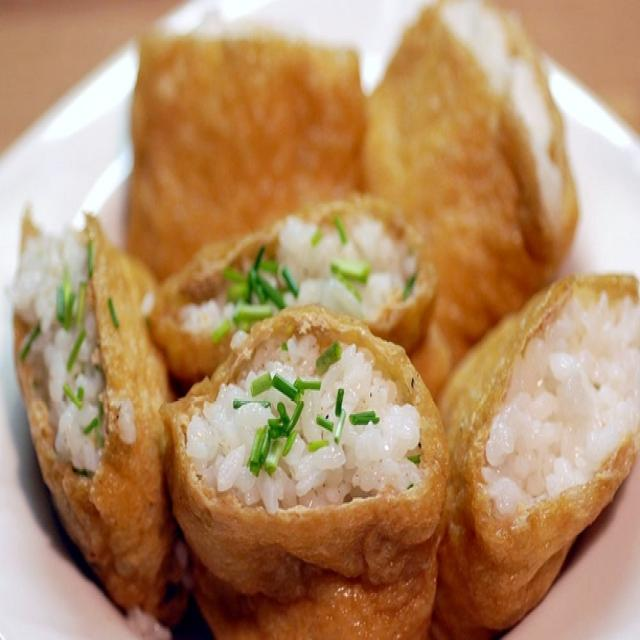寿司卷物: (9, 9, 636, 623)
